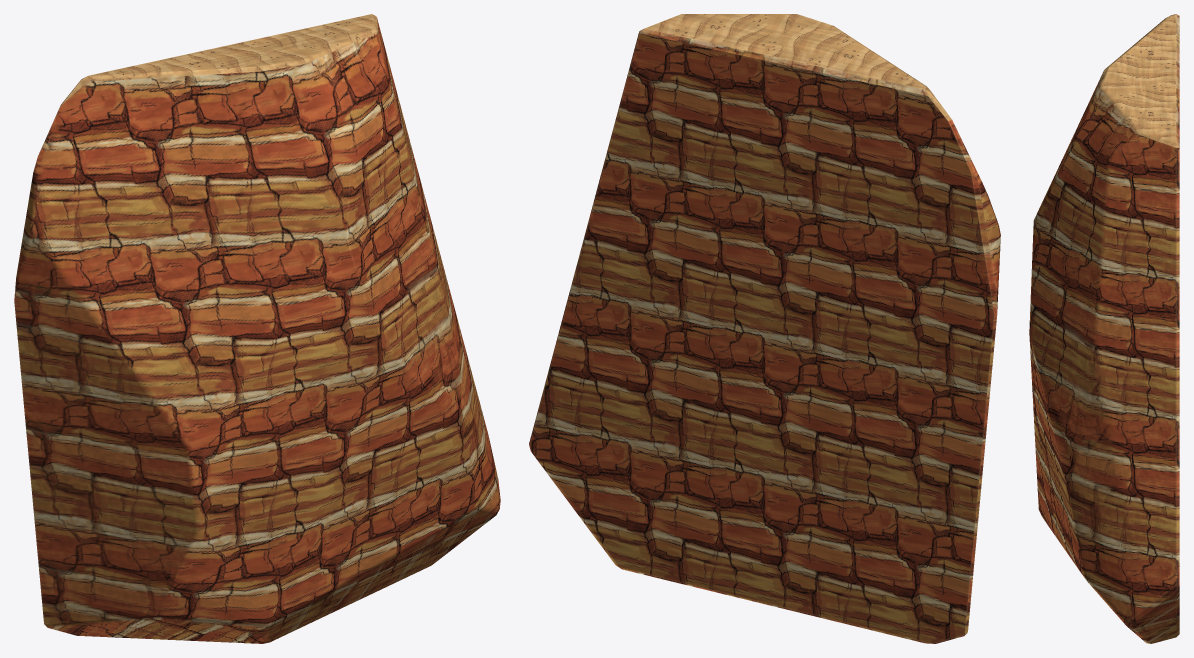
File: v4_cliff_w_02.glb
3 renders of one model, left to right at view 1: azimuth 30°, elevation 25°; view 2: azimuth 150°, elevation 25°; view 3: azimuth 270°, elevation 25°, orthographic. The views are drawn at different scales.
Parts seen in each view (by area): view 1: v4_cliff_w_02; view 2: v4_cliff_w_02; view 3: v4_cliff_w_02.
Boxes of the visible parts, x1,y1,x2,y2 form: v4_cliff_w_02: (14,14,500,643); v4_cliff_w_02: (529,14,1000,643); v4_cliff_w_02: (1029,14,1179,643).
Size of the model in its own units: 7.02 by 7.99 by 2.2.
Materials: 1 (1 with a texture image).
